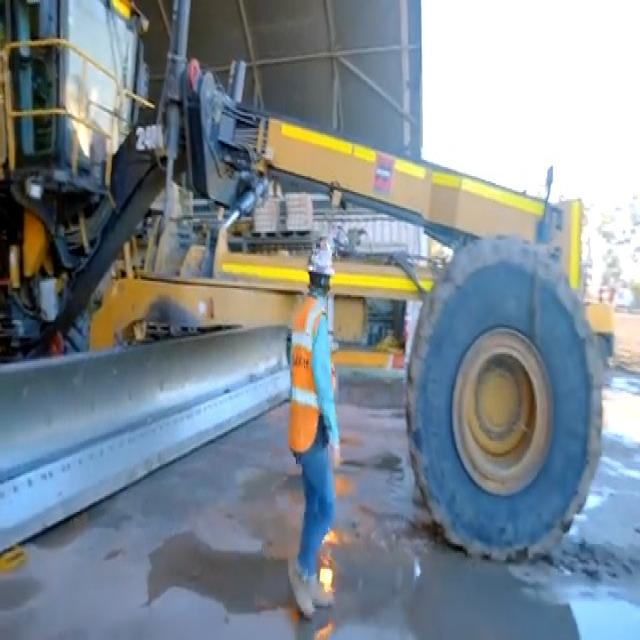buldozerpayloadergrader: (63, 1, 603, 552)
